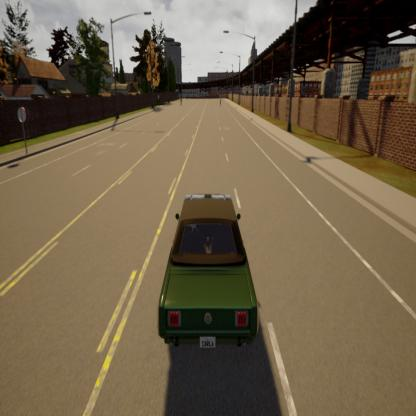Cars: (158, 196, 258, 351), (219, 93, 223, 111), (179, 94, 183, 111)
